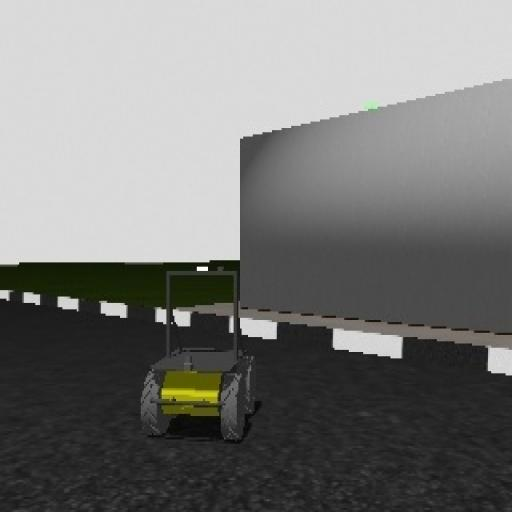huskya200: (136, 248, 260, 461)
